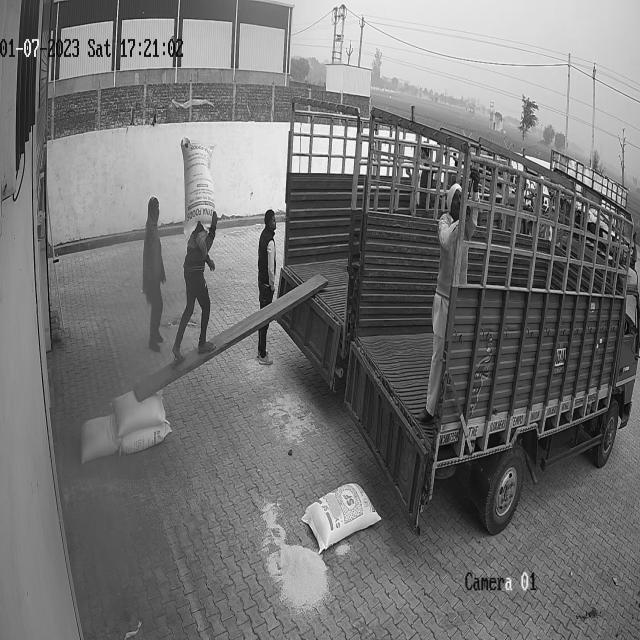sack: (301, 482, 382, 553), (180, 136, 216, 239), (111, 388, 165, 437), (79, 412, 120, 462), (120, 424, 171, 453)
